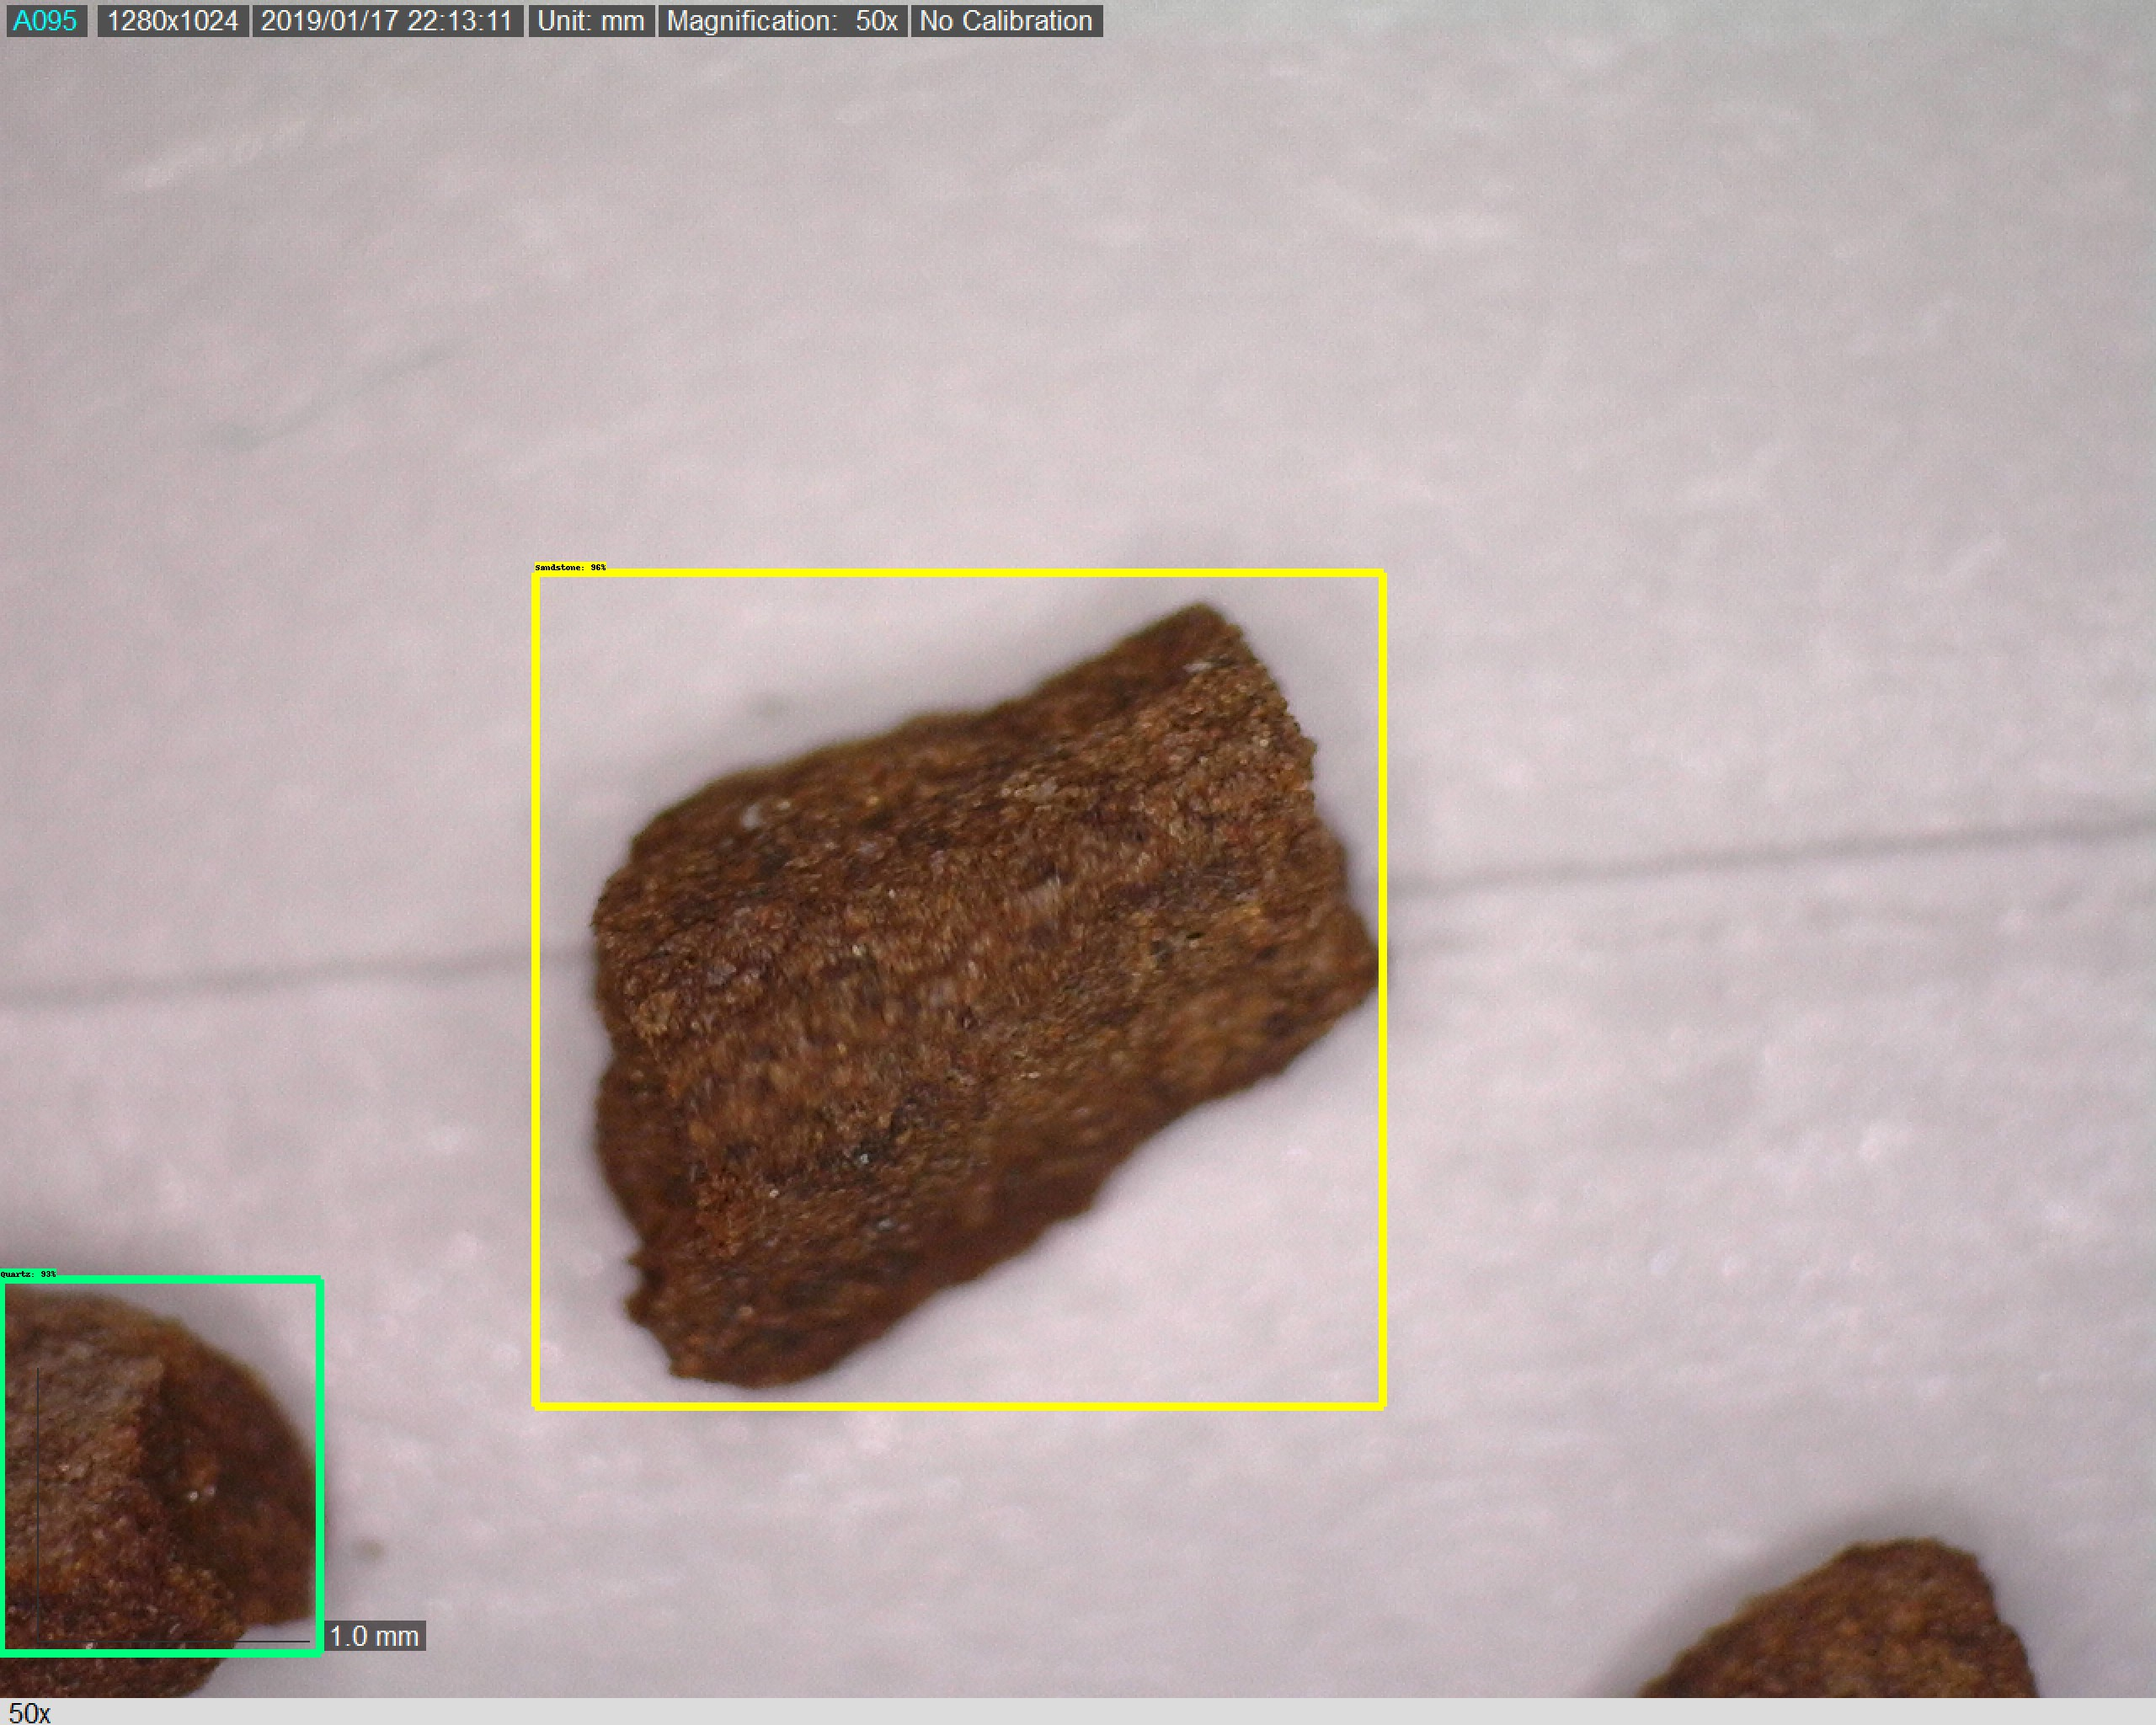Sandstone: (577, 591, 1397, 1396)
